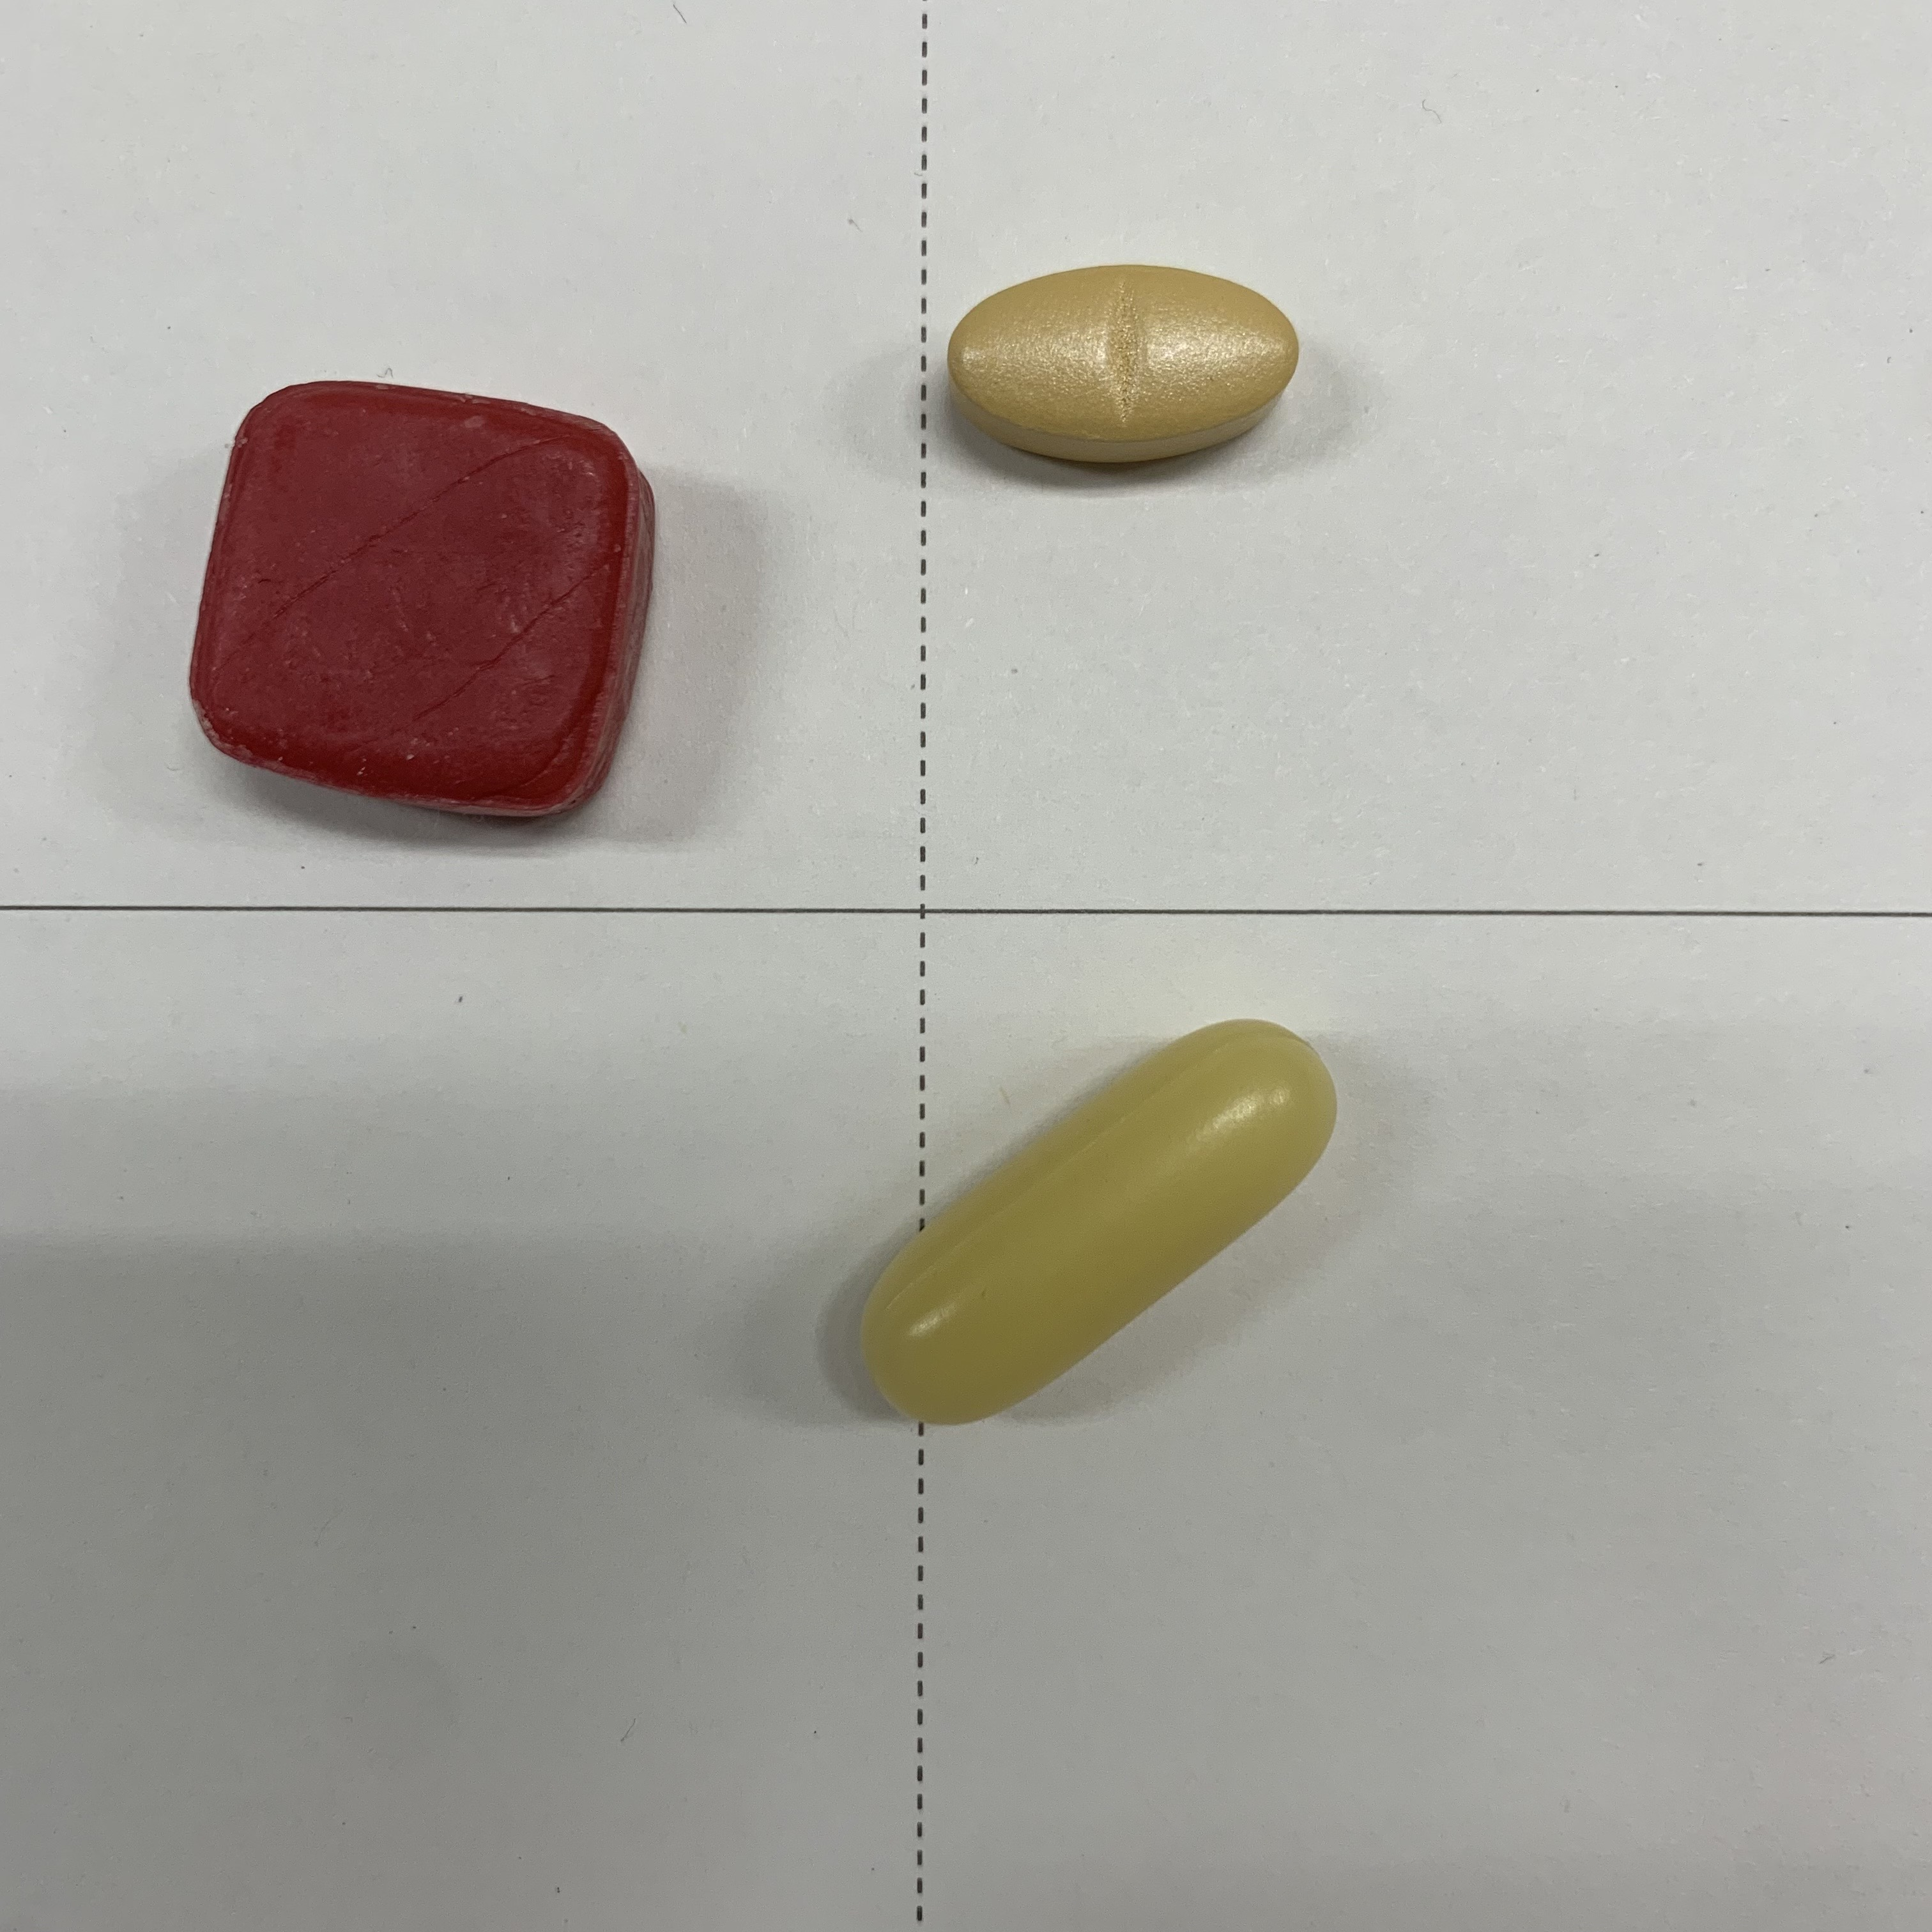oval_drug: (932, 253, 1325, 487)
rec_drug: (798, 991, 1376, 1438)
sqr_drug: (184, 361, 692, 858)
